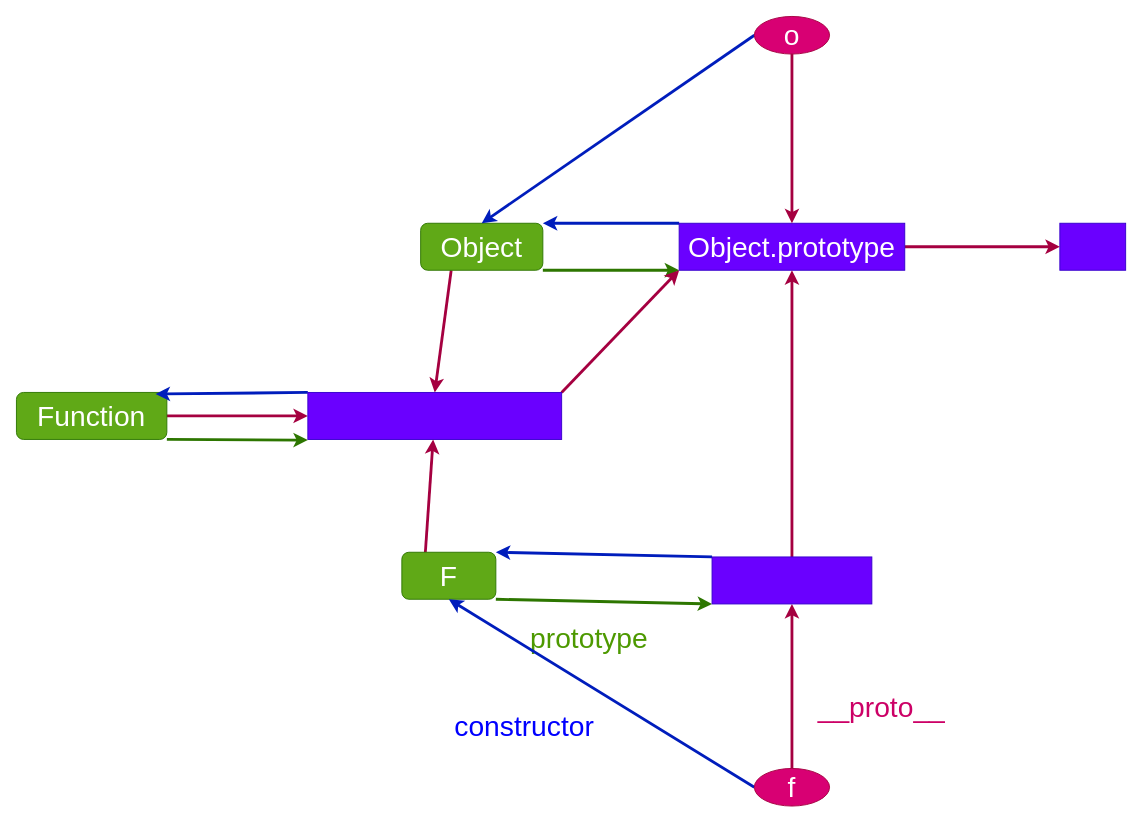
The diagram is 1142 pixels wide and 823 high, and some of its shapes have lost their labels. Each missing label, with the box of its shape:
F.prototype: (711, 556, 872, 604)
Function.prototype: (307, 392, 562, 439)
null: (1059, 222, 1126, 270)
